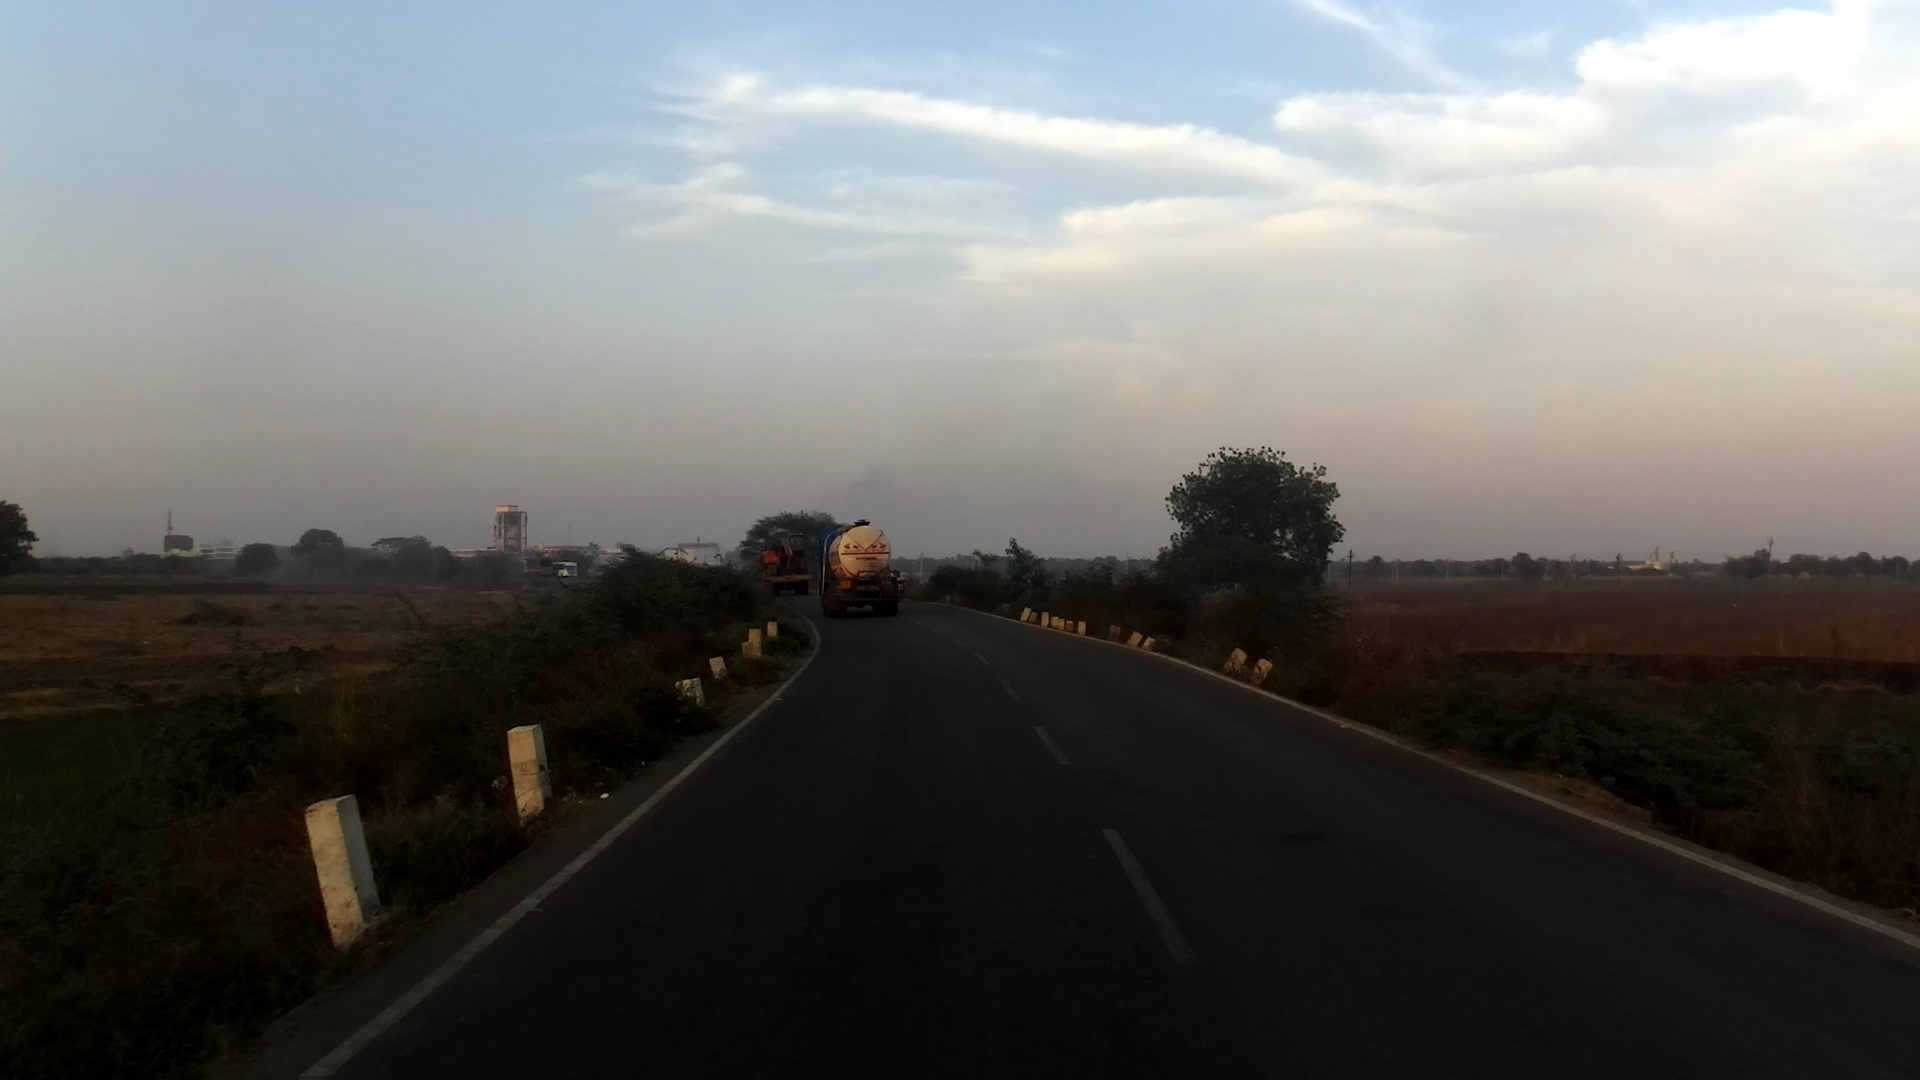truck: (818, 517, 906, 624), (762, 535, 814, 603)
